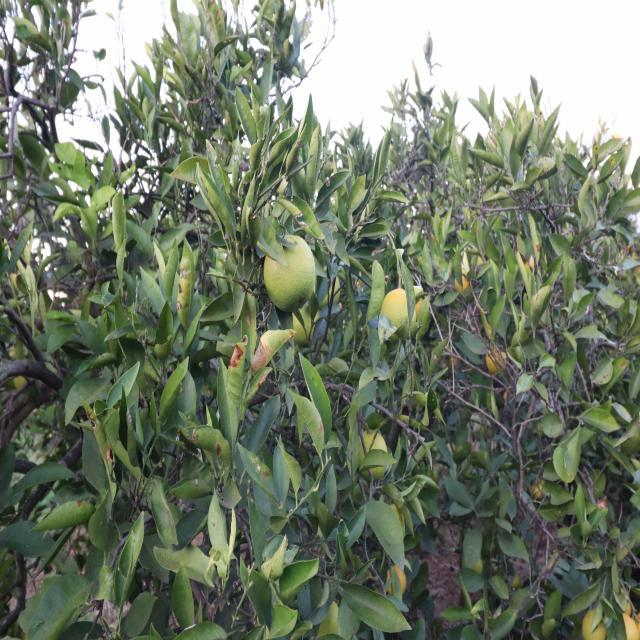Jeruk Belum Matang: (263, 235, 315, 313), (383, 290, 413, 338), (358, 430, 386, 478), (582, 608, 605, 638)
